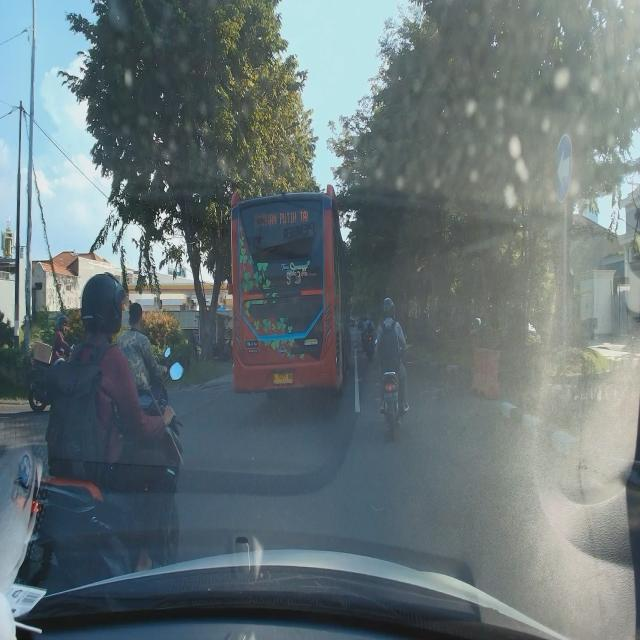bus: (231, 183, 351, 397)
license-plate: (273, 372, 293, 384)
